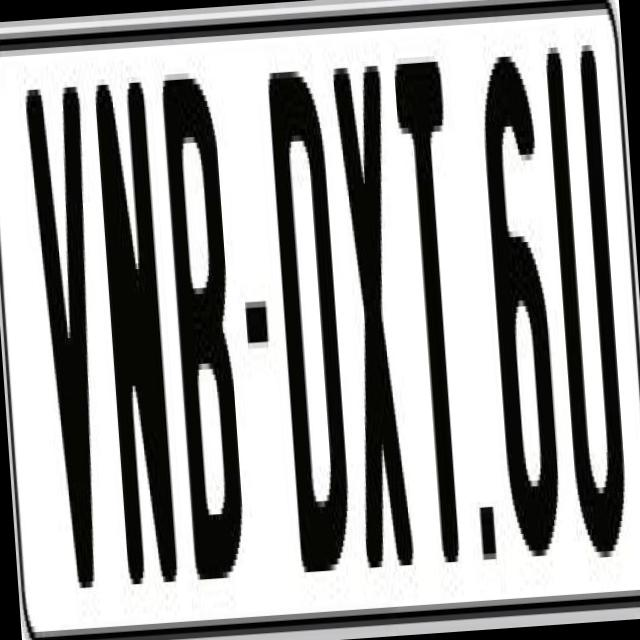6: (477, 42, 570, 576)
B: (156, 64, 252, 586)
D: (264, 63, 354, 584)
N: (90, 82, 174, 596)
T: (388, 55, 474, 558)
U: (540, 27, 628, 559)
V: (23, 80, 116, 595)
X: (330, 48, 412, 556)
